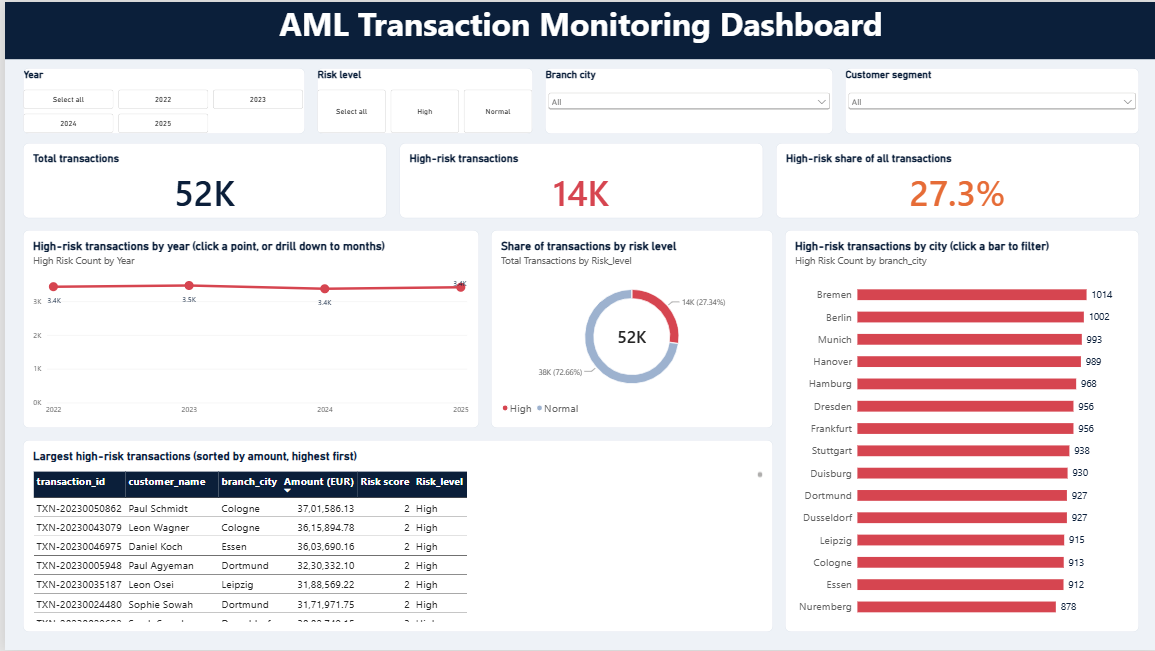

This screenshot's page, from the dashboard's own definition file:
{"tool":"powerbi","page":{"name":"AML Dashboard","canvas":[1920,1080],"ordinal":0},"visuals":[{"type":"textbox","box":[0,0,1920,95],"z":0},{"type":"advancedSlicerVisual","title":"Year","fields":{"Values":["AML.year"]},"box":[30,110,470,110],"z":10},{"type":"advancedSlicerVisual","title":"Risk level","fields":{"Values":["AML.Risk_level"]},"box":[520,110,360,110],"z":10},{"type":"slicer","title":"Branch city","fields":{"Values":["AML.branch_city"]},"box":[900,110,480,110],"z":10},{"type":"slicer","title":"Customer segment","fields":{"Values":["AML.customer_segment"]},"box":[1400,110,490,110],"z":10},{"type":"card","title":"Total transactions","fields":{"Values":["AML.Total Transactions"]},"box":[30,235,606,125],"z":20},{"type":"card","title":"High-risk transactions","fields":{"Values":["AML.High Risk Count"]},"box":[657,235,606,125],"z":20},{"type":"card","title":"High-risk share of all transactions","fields":{"Values":["AML.High Risk %"]},"box":[1284,235,606,125],"z":20},{"type":"lineChart","title":"High-risk transactions by year (click a point, or drill down to months)","fields":{"Category":["AML.transaction_date.Variation.Date Hierarchy.Year","AML.transaction_date.Variation.Date Hierarchy.Month"],"Y":["AML.High Risk Count"]},"box":[30,380,760,330],"z":30},{"type":"donutChart","title":"Share of transactions by risk level","fields":{"Category":["AML.Risk_level"],"Y":["AML.Total Transactions"]},"box":[810,380,470,330],"z":30},{"type":"clusteredBarChart","title":"High-risk transactions by city (click a bar to filter)","fields":{"Category":["AML.branch_city"],"Y":["AML.High Risk Count"]},"box":[1300,380,590,670],"z":40},{"type":"tableEx","title":"Largest high-risk transactions (sorted by amount, highest first)","fields":{"Values":["AML.transaction_id","AML.customer_name","AML.branch_city","Sum(AML.Cur.eu)","Sum(AML.Score)","AML.Risk_level"]},"box":[30,730,1250,320],"z":50}]}

Visuals, with their boxes in screenshot pixels (x1, y1, x2, y2), scaled from the page's 1920x1080 canvas onto the 1155x651 screenshot:
textbox: left=0, top=0, right=1154, bottom=57
"Year" advancedSlicerVisual: left=18, top=66, right=301, bottom=133
"Risk level" advancedSlicerVisual: left=313, top=66, right=529, bottom=133
"Branch city" slicer: left=541, top=66, right=830, bottom=133
"Customer segment" slicer: left=842, top=66, right=1137, bottom=133
"Total transactions" card: left=18, top=142, right=383, bottom=217
"High-risk transactions" card: left=395, top=142, right=760, bottom=217
"High-risk share of all transactions" card: left=772, top=142, right=1137, bottom=217
"High-risk transactions by year (click a point, or drill down to months)" lineChart: left=18, top=229, right=475, bottom=428
"Share of transactions by risk level" donutChart: left=487, top=229, right=770, bottom=428
"High-risk transactions by city (click a bar to filter)" clusteredBarChart: left=782, top=229, right=1137, bottom=633
"Largest high-risk transactions (sorted by amount, highest first)" tableEx: left=18, top=440, right=770, bottom=633
